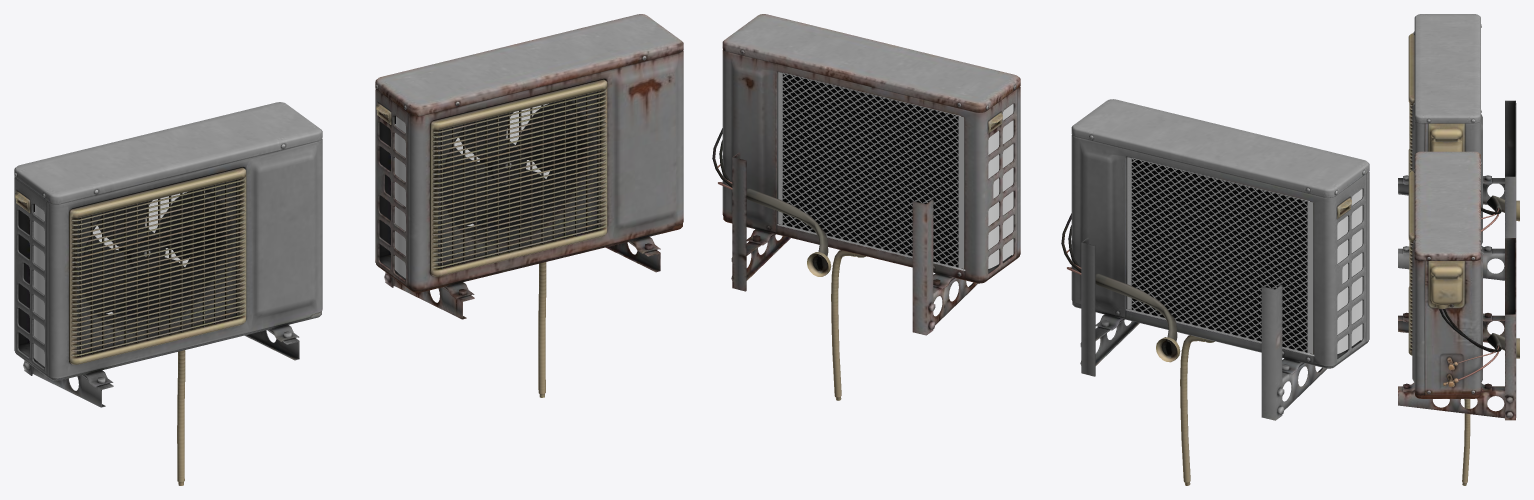
File: exterior_aircon_unit.glb
3 renders of one model, left to right at view 1: azimuth 30°, elevation 25°; view 2: azimuth 150°, elevation 25°; view 3: azimuth 270°, elevation 25°, orthographic. The views are drawn at different scales.
Visible parts, largest first — view 1: exterior_aircon_unit_rusted, exterior_aircon_unit; view 2: exterior_aircon_unit, exterior_aircon_unit_rusted; view 3: exterior_aircon_unit_rusted, exterior_aircon_unit.
Part boxes in pixels (left/top/right/bottom): exterior_aircon_unit_rusted: left=375, top=14, right=683, bottom=397; exterior_aircon_unit: left=14, top=102, right=322, bottom=485; exterior_aircon_unit: left=1061, top=99, right=1369, bottom=485; exterior_aircon_unit_rusted: left=712, top=14, right=1020, bottom=400; exterior_aircon_unit_rusted: left=1398, top=151, right=1519, bottom=485; exterior_aircon_unit: left=1398, top=14, right=1519, bottom=280.
Bounding box in the file's own units: 1.8 × 0.9279 × 0.3742.
Materials: 4 (4 with a texture image).
